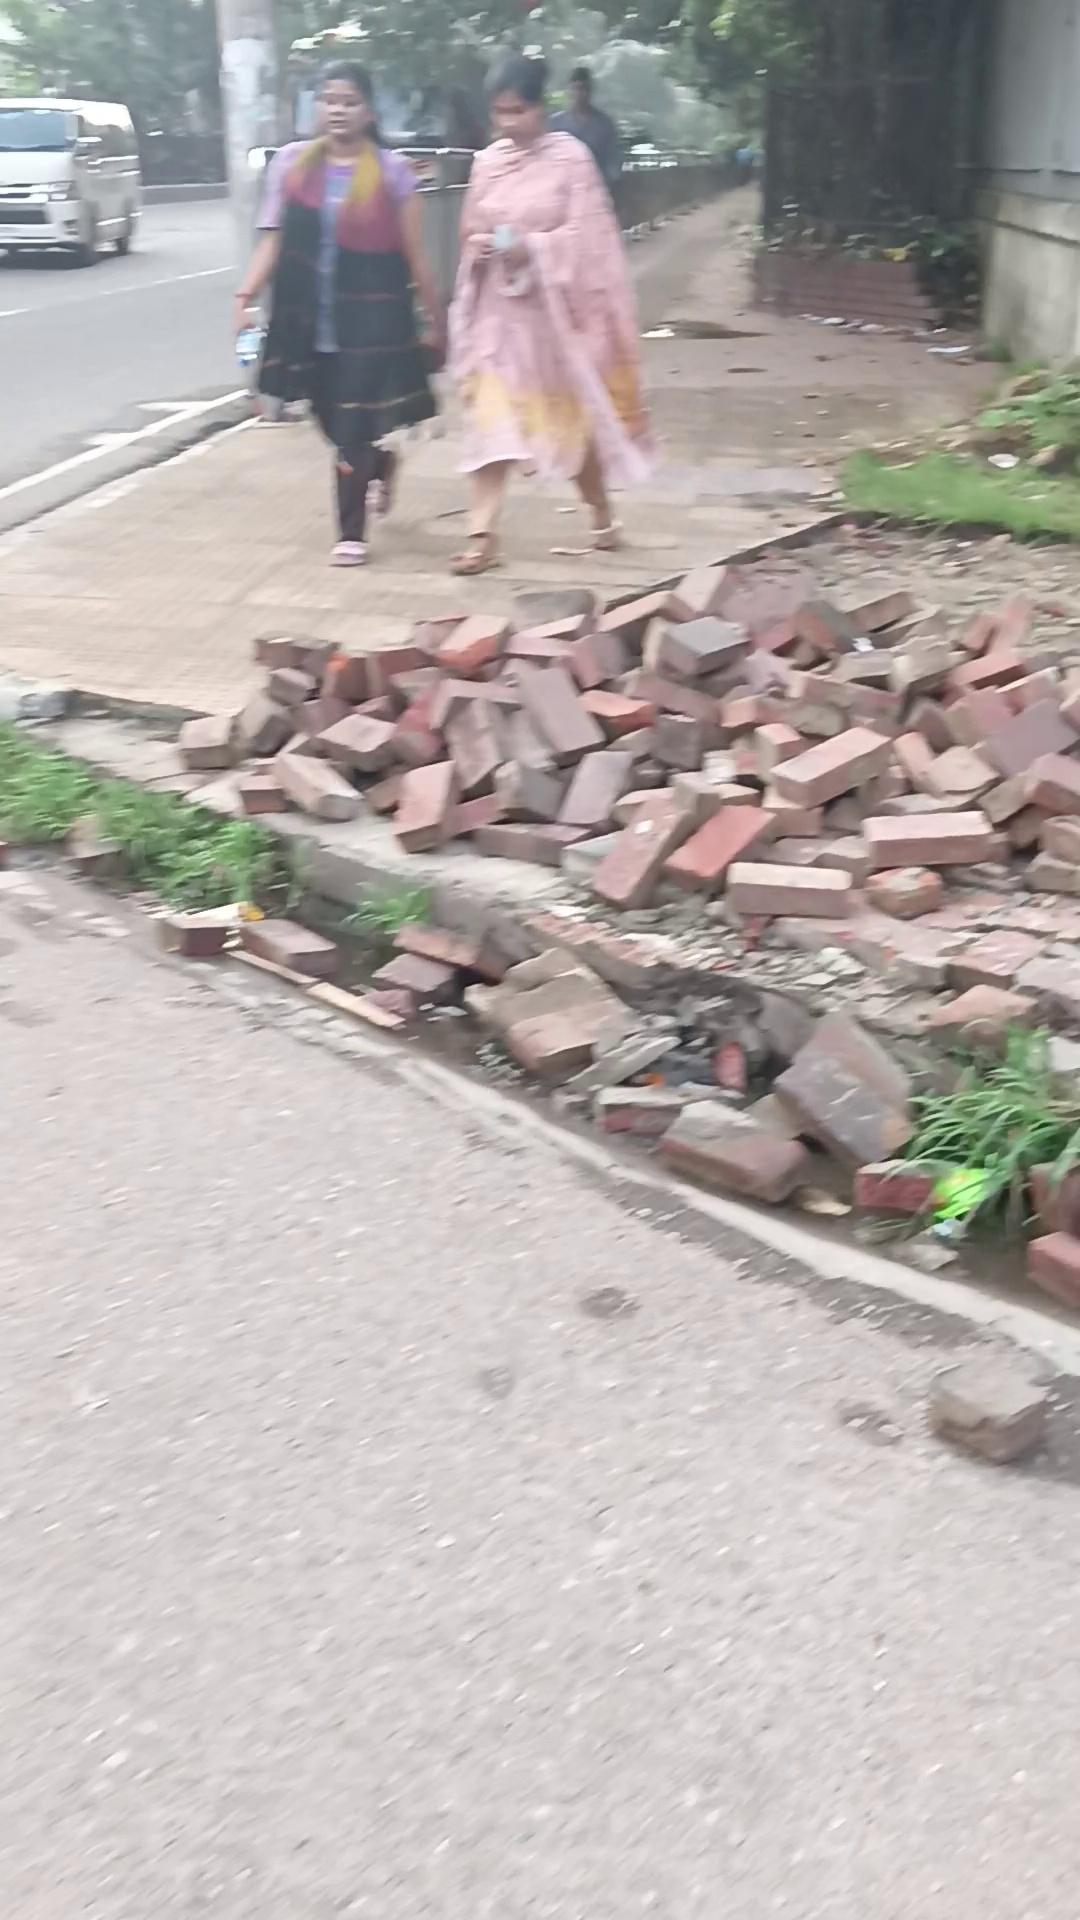Car: (0, 96, 144, 266)
Motorcycle: (166, 549, 1077, 1280)
Muddy road: (444, 53, 658, 574), (232, 59, 448, 566), (545, 65, 622, 200)
Potted-plant: (3, 175, 1021, 715)
